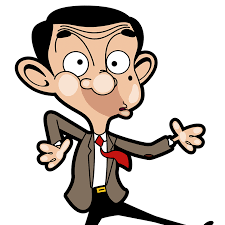mrbean: (15, 5, 207, 225)
